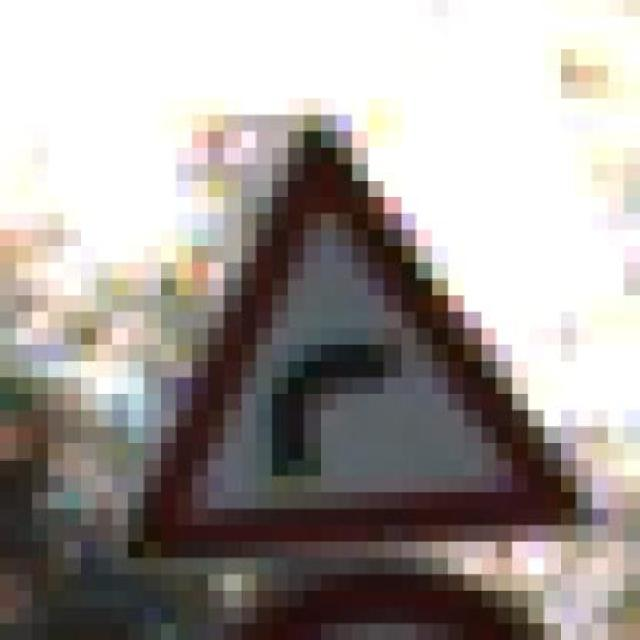Dangerous Rright Curve Ahead: (96, 115, 609, 558)
